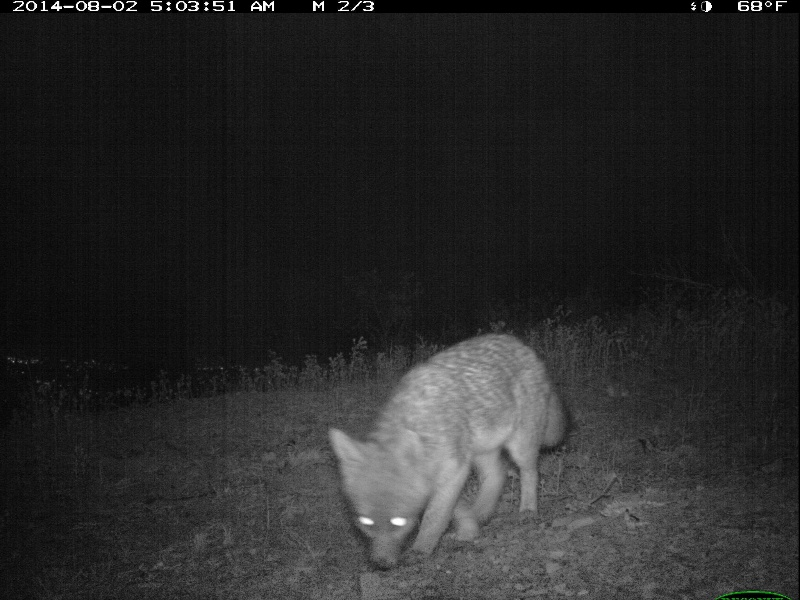fox: (325, 327, 575, 573)
